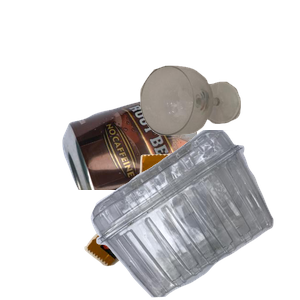glass: (138, 63, 300, 191)
metal: (60, 79, 300, 259)
plastic: (88, 130, 300, 300)
trash: (82, 151, 260, 300)
